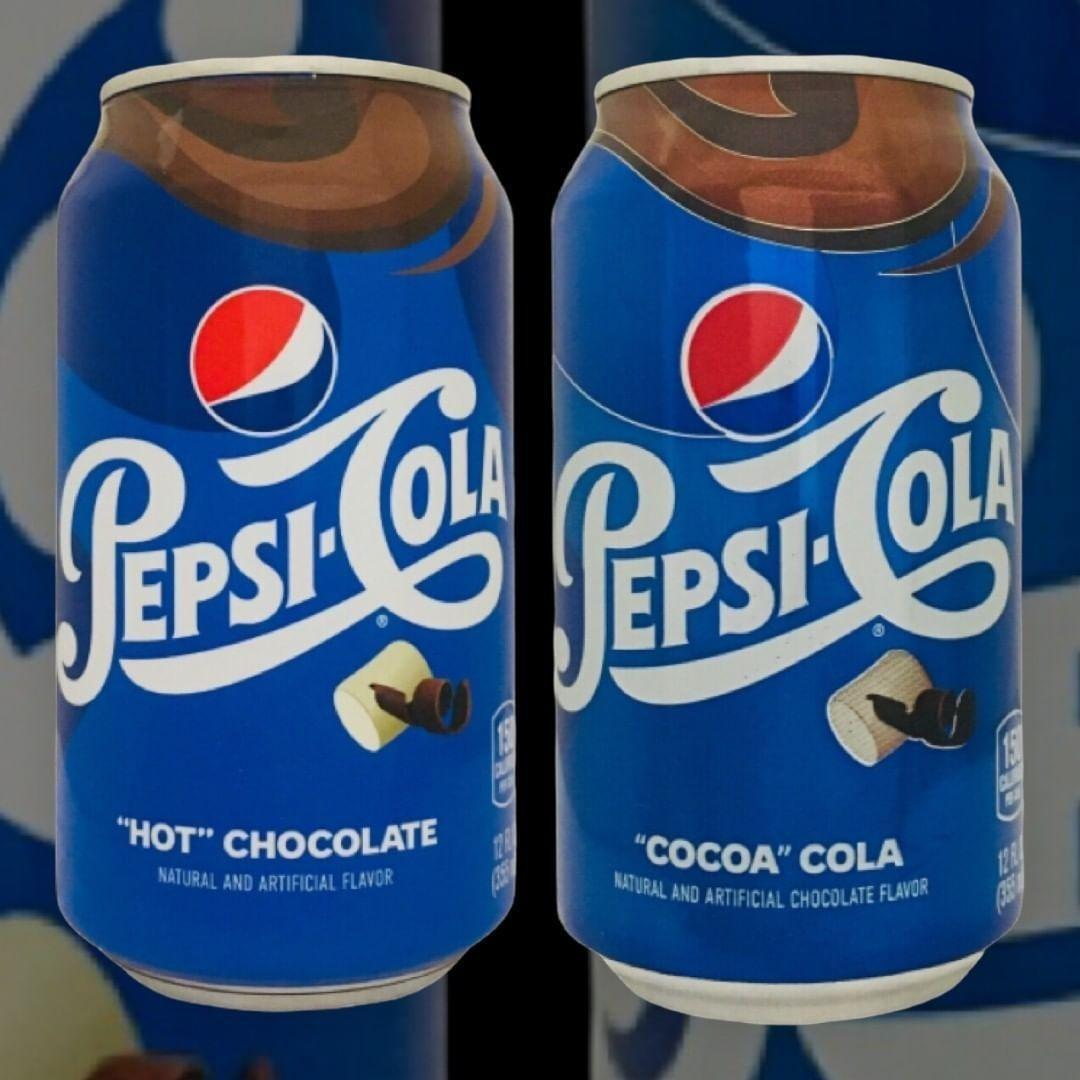tin can: (543, 49, 1047, 1026), (38, 51, 516, 1015)
